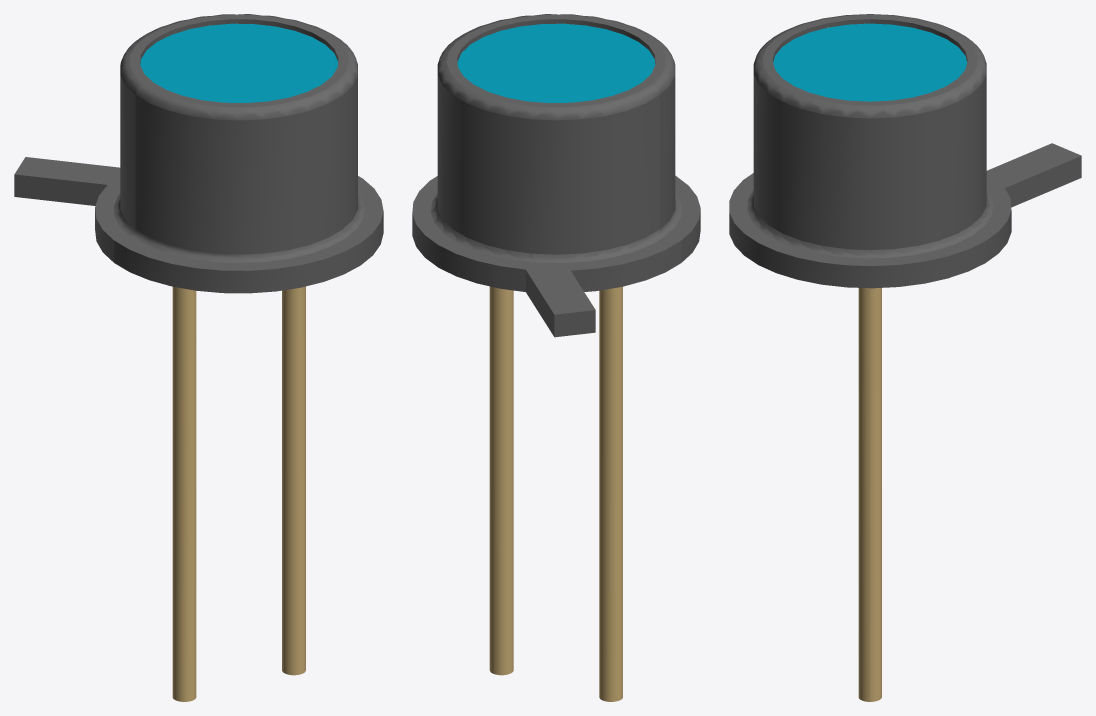
The model's file is kc-to-52-2_window.glb.
3 views of the same model, side by side, from view 1: azimuth 30°, elevation 25°; view 2: azimuth 150°, elevation 25°; view 3: azimuth 270°, elevation 25° (orthographic).
Parts seen in each view (by area): view 1: 0.16666666666666666_0.16666666666666666_0.16666666666666666_, 0.75_0.5_0.25_0.9, 0_0.3333333333333333_0.5_0; view 2: 0.16666666666666666_0.16666666666666666_0.16666666666666666_, 0.75_0.5_0.25_0.9, 0_0.3333333333333333_0.5_0; view 3: 0.16666666666666666_0.16666666666666666_0.16666666666666666_, 0_0.3333333333333333_0.5_0, 0.75_0.5_0.25_0.9.
Part boxes in pixels (left/top/right/bottom): 0.16666666666666666_0.16666666666666666_0.16666666666666666_: left=14, top=14, right=383, bottom=293; 0.75_0.5_0.25_0.9: left=172, top=286, right=305, bottom=701; 0_0.3333333333333333_0.5_0: left=140, top=23, right=337, bottom=102; 0.16666666666666666_0.16666666666666666_0.16666666666666666_: left=412, top=14, right=700, bottom=337; 0.75_0.5_0.25_0.9: left=489, top=286, right=622, bottom=701; 0_0.3333333333333333_0.5_0: left=457, top=23, right=655, bottom=102; 0.16666666666666666_0.16666666666666666_0.16666666666666666_: left=729, top=14, right=1081, bottom=288; 0_0.3333333333333333_0.5_0: left=773, top=23, right=967, bottom=101; 0.75_0.5_0.25_0.9: left=858, top=288, right=881, bottom=701.
Size of the model in its own units: 0.5964 by 1.38 by 0.7225.
